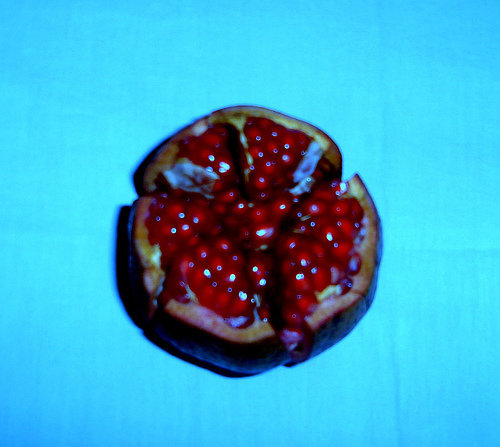pomogranate: (110, 101, 385, 372)
